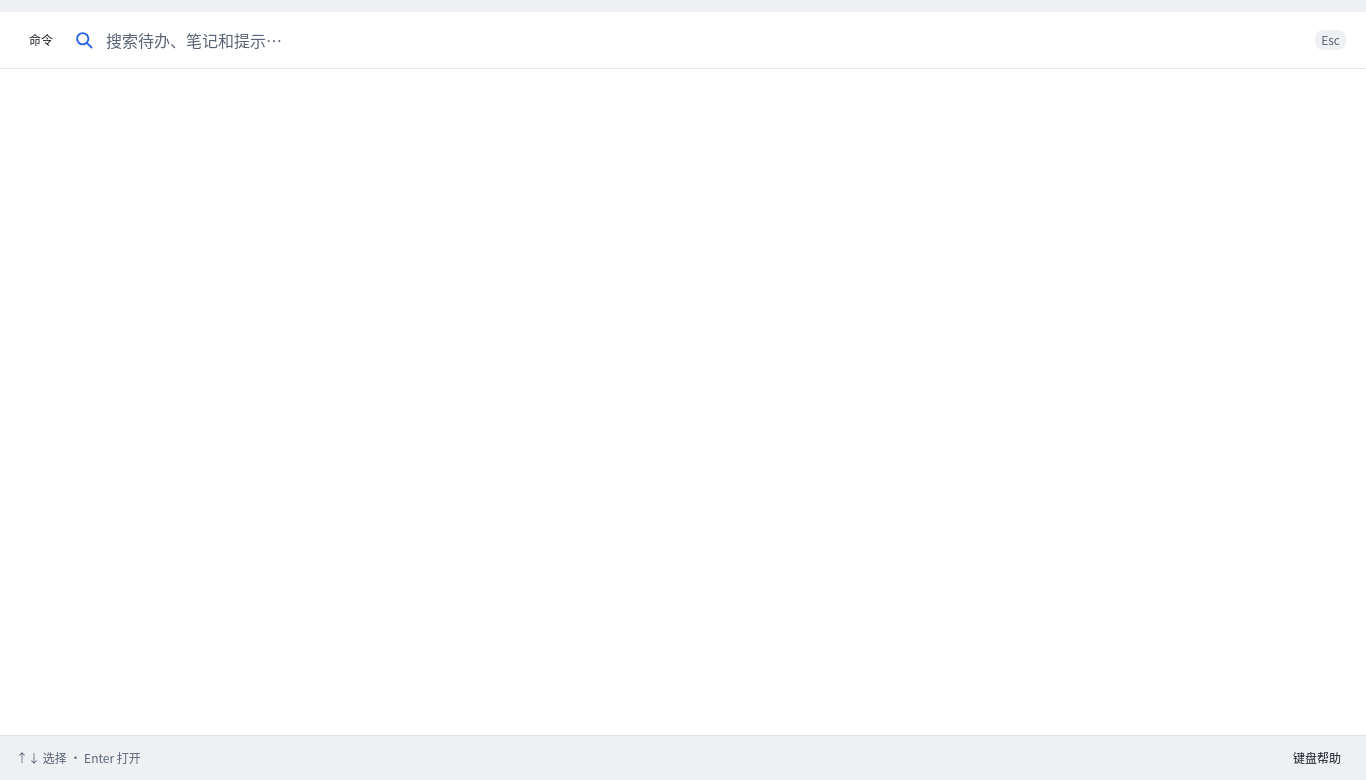
全局搜索窗口 › 回车把选中的结果交给主窗口打开
This screenshot has width=1366, height=780.
Later steps or results of the test are not shown.
Type "登录超时" into the dropdown named "搜索关键词" at (705, 40), box [106,12,1303,68]
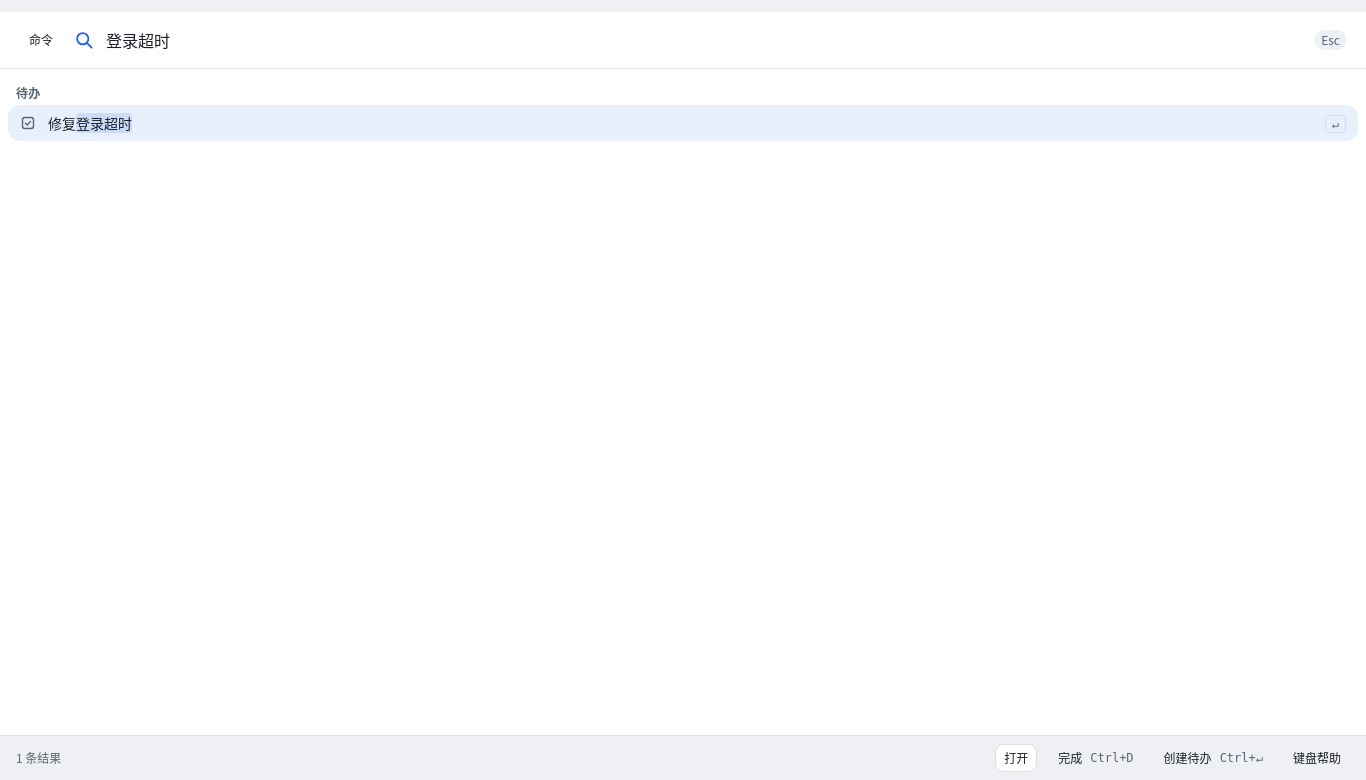
Check: the option "修复登录超时 ↵" is shown, box [8,105,1358,141]
